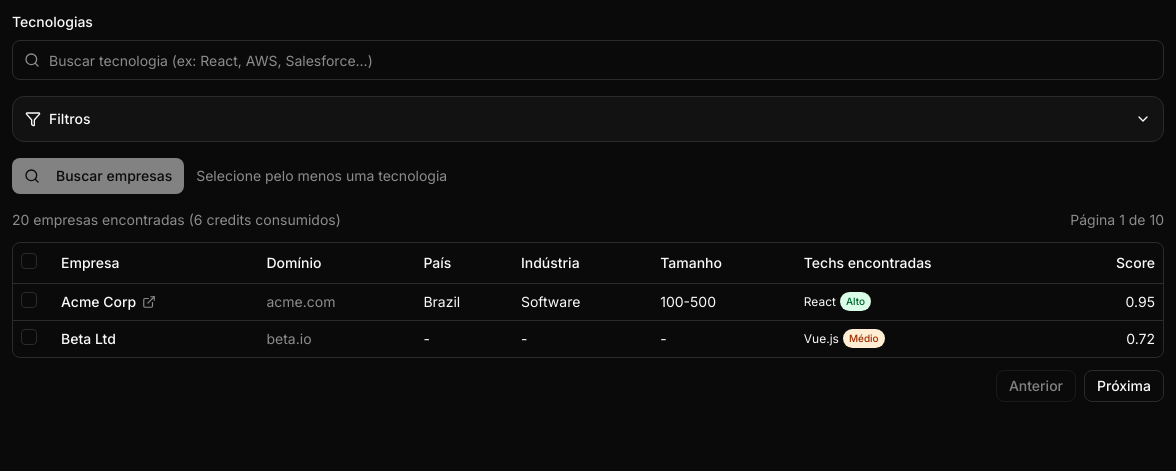
Test: TechnographicPageContent › page change clears selection
Note: Select a company
Step 1. Click the checkbox with test id "select-row-acme.com" → (29, 300), box x1=21 y1=292 x2=37 y2=308
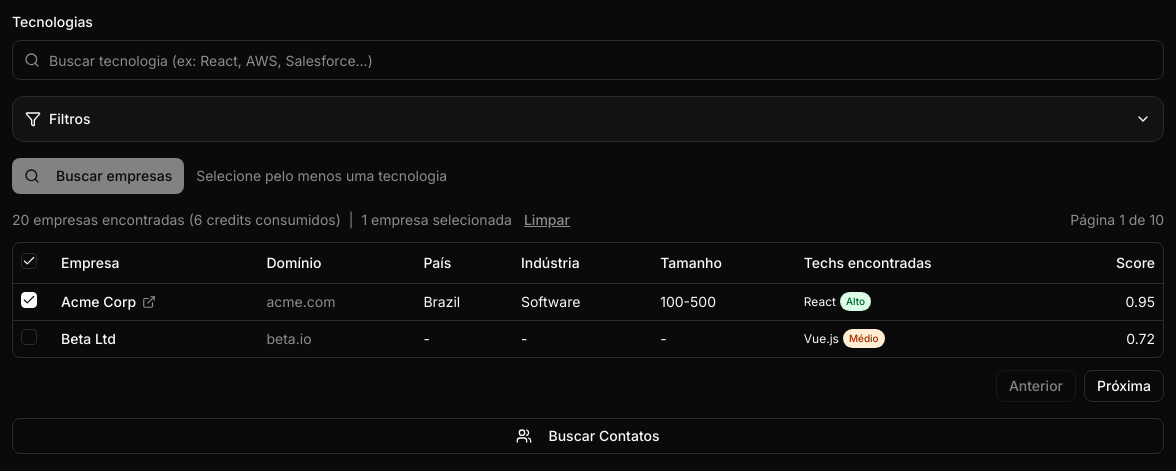
Expected: the text "1 empresa selecionada" is shown, x1=361 y1=210 x2=512 y2=230
Note: Click next page
Step 2. Click the button with test id "next-page" → (1124, 386), box x1=1084 y1=370 x2=1164 y2=402
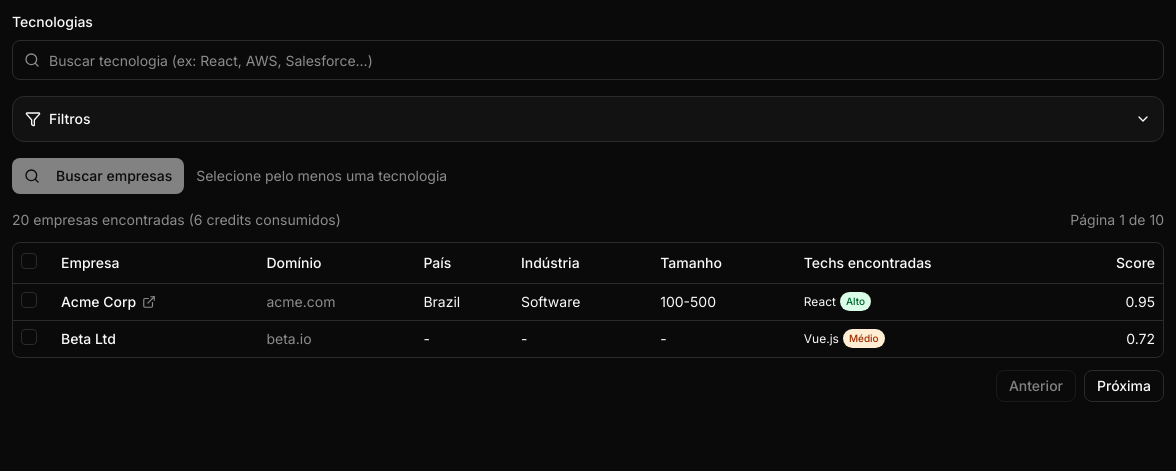
Expected: the text with test id "selection-counter" is gone
